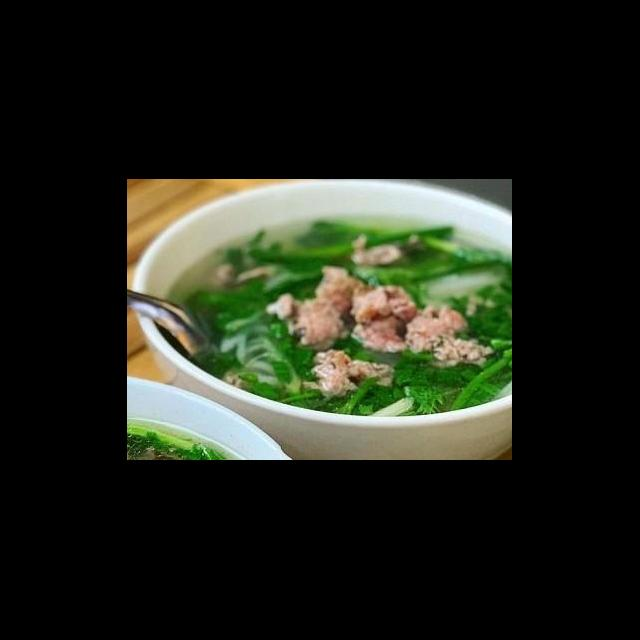thit bo: (276, 264, 492, 364), (304, 350, 398, 400)
